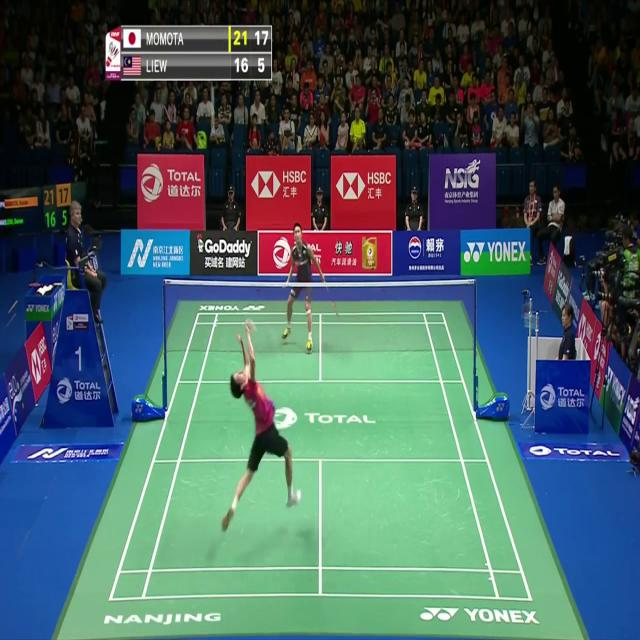Shuttlecock: (210, 98, 216, 110)
